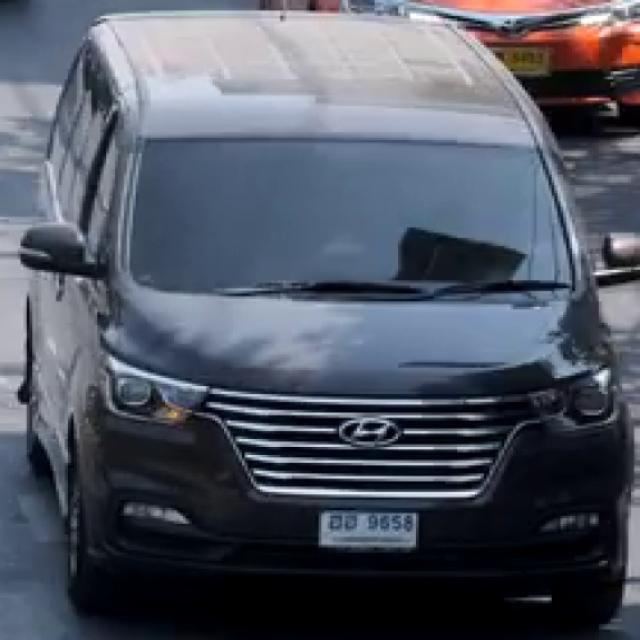plate: (320, 508, 420, 550)
